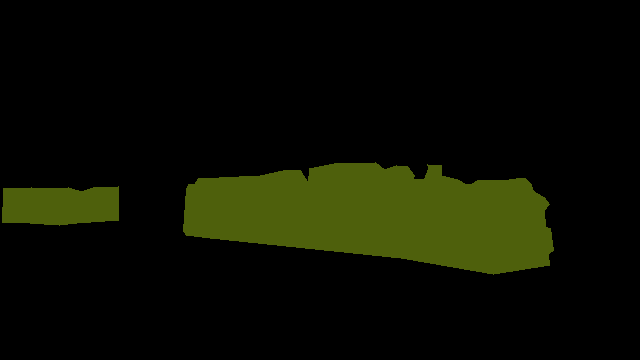Train: (2, 162, 554, 275)
